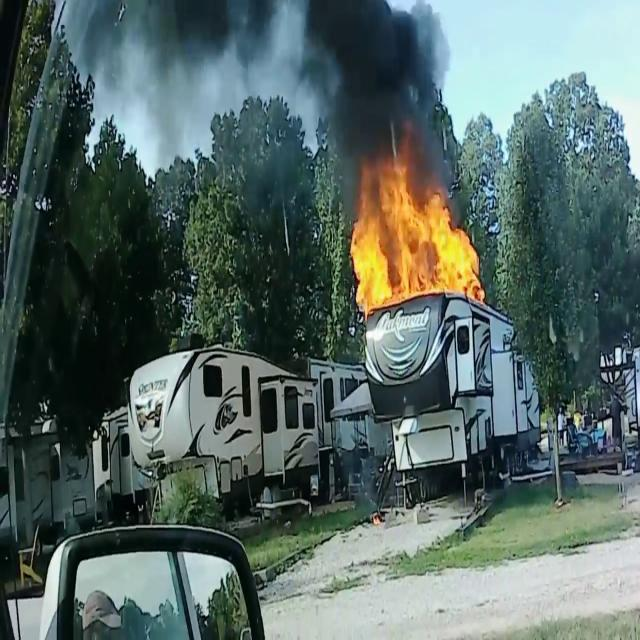Fire: (346, 156, 484, 310)
Smoke: (139, 0, 307, 218), (288, 1, 452, 187)
